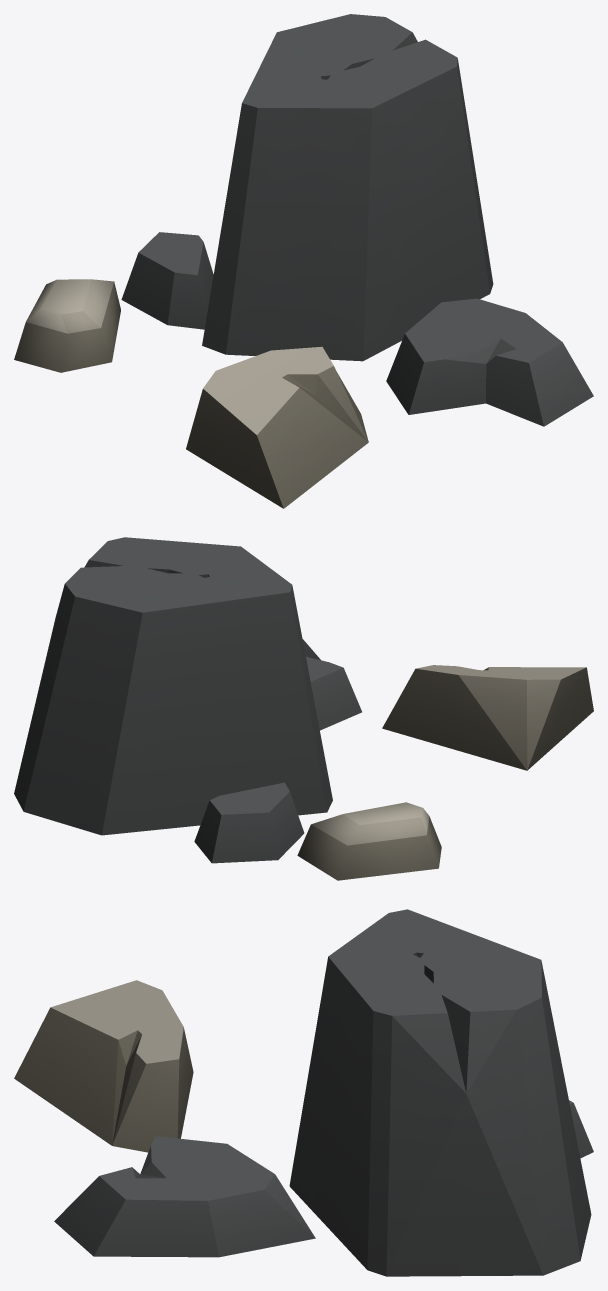
File: Rock_Cluster_1C.fbx
3 views of the same model, one above another, from view 1: azimuth 30°, elevation 25°; view 2: azimuth 150°, elevation 25°; view 3: azimuth 270°, elevation 25° (orthographic). The views are drawn at different scales.
Parts seen in each view (by area): view 1: Rock_Cluster_1C; view 2: Rock_Cluster_1C; view 3: Rock_Cluster_1C.
Part boxes in pixels (x1,y1,x2,y2): Rock_Cluster_1C: [14, 14, 593, 508]; Rock_Cluster_1C: [14, 537, 593, 880]; Rock_Cluster_1C: [14, 909, 593, 1276].
Size of the model in its own units: 295 by 150 by 323.
